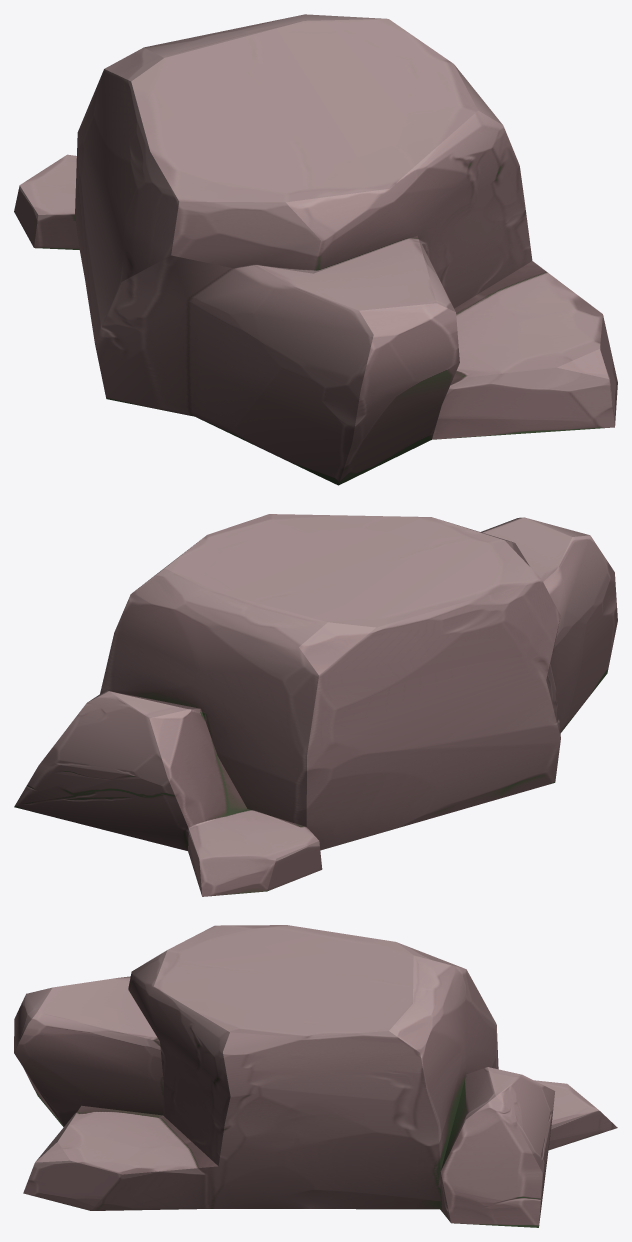
Rendered from zone0-rock-new2.glb.
The picture shows the model from 3 angles, top to bottom: view 1: azimuth 30°, elevation 25°; view 2: azimuth 150°, elevation 25°; view 3: azimuth 270°, elevation 25°; orthographic projection. The views are drawn at different scales.
Parts seen in each view (by area): view 1: lp2_Material_0; view 2: lp2_Material_0; view 3: lp2_Material_0.
Boxes of the visible parts, <box> form: lp2_Material_0: <box>14,14,617,485</box>; lp2_Material_0: <box>14,514,617,896</box>; lp2_Material_0: <box>14,925,617,1227</box>.
Size of the model in its own units: 5.8 by 2.78 by 8.89.
1 material, 1 textured.
